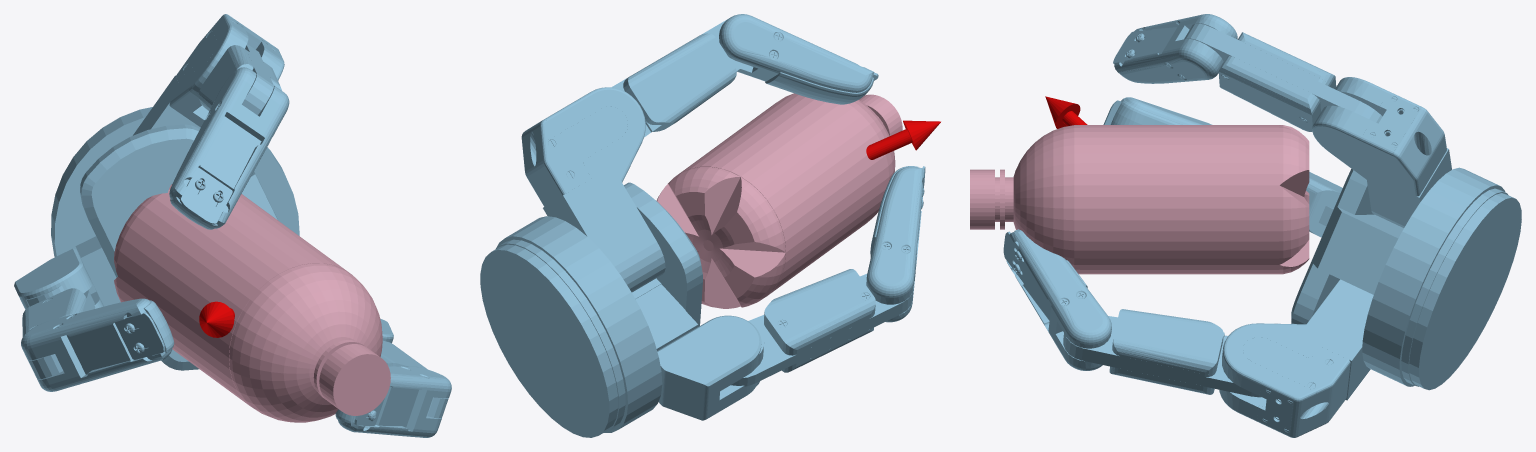
3 views of the same model, side by side, from view 1: azimuth 30°, elevation 25°; view 2: azimuth 150°, elevation 25°; view 3: azimuth 270°, elevation 25° (orthographic). The views are drawn at different scales.
Parts seen in each view (by area): view 1: world, water_bottle.stl; view 2: world, water_bottle.stl; view 3: world, water_bottle.stl.
Part boxes in pixels (left/top/right/bottom): world: left=14, top=14, right=451, bottom=437; water_bottle.stl: left=114, top=184, right=390, bottom=422; world: left=480, top=14, right=940, bottom=437; water_bottle.stl: left=656, top=93, right=902, bottom=308; world: left=1003, top=14, right=1521, bottom=437; water_bottle.stl: left=970, top=125, right=1309, bottom=274.
Size of the model in its own units: 0.1653 by 0.155 by 0.222.
